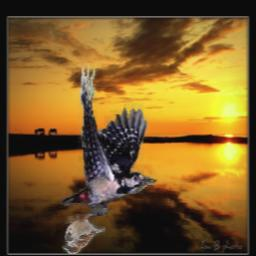Sparrow: (63, 214, 106, 254)
Woodpecker: (61, 63, 158, 216)
